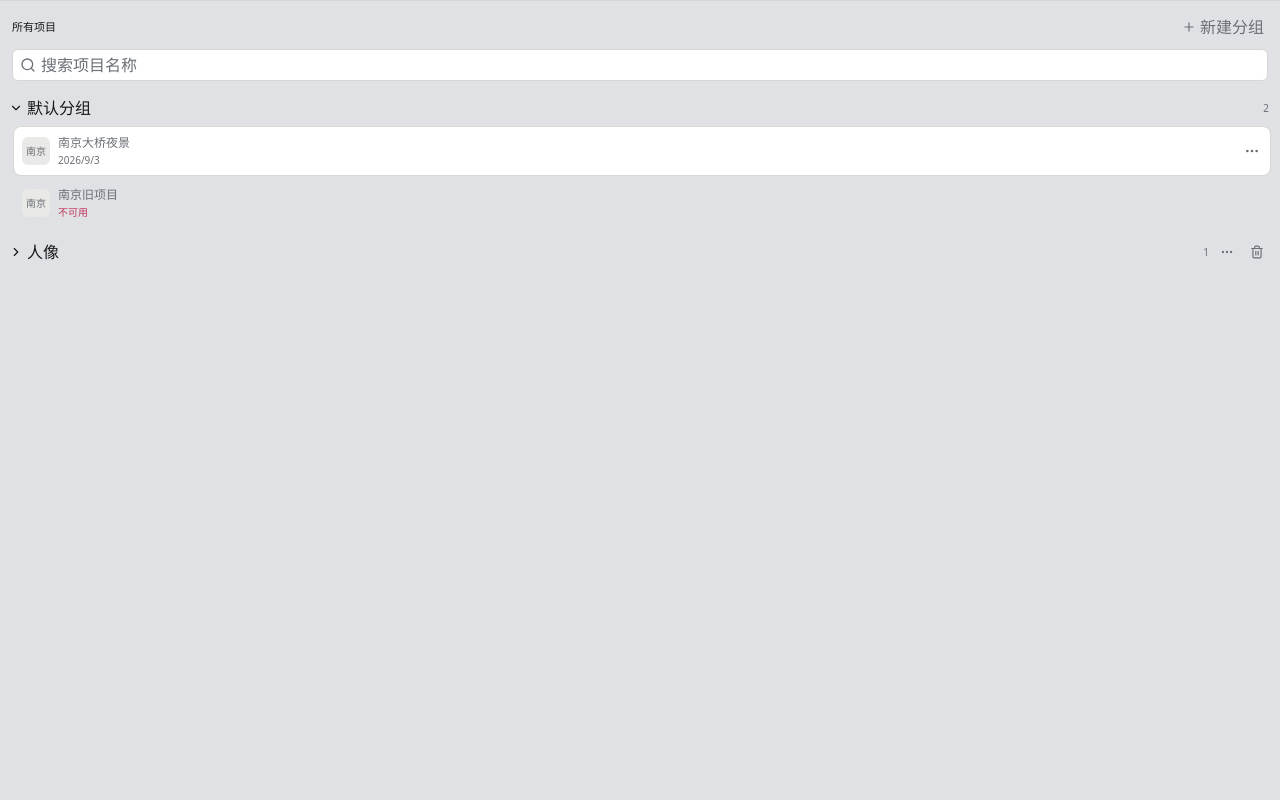
Test: grouped project sidebar › keeps a failed deletion retryable and moves members to default on confirmed save
Click the button named "删除分组 人像": click(1257, 252) [1243, 238, 1271, 266]
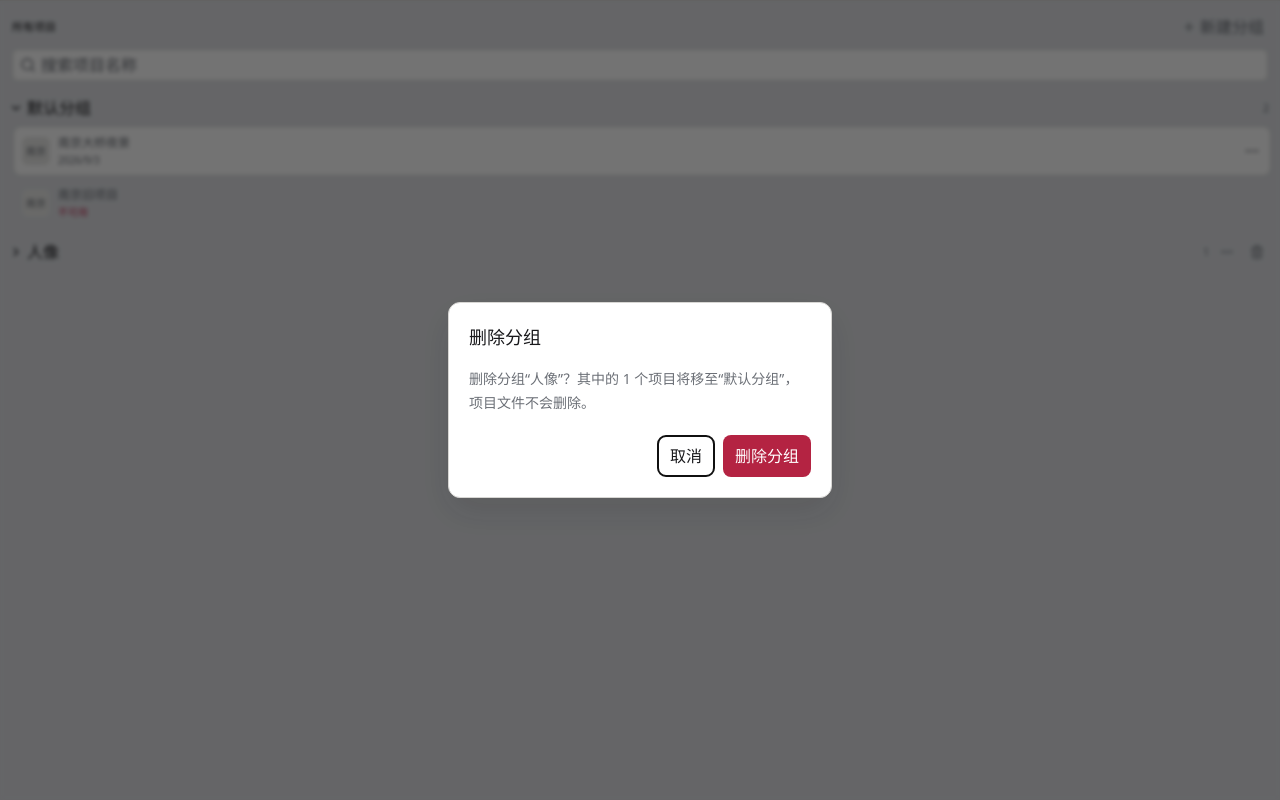
Expected: the dialog shows "1 个项目将移至“默认分组”", [469, 369, 798, 412]
Click the button "删除分组": click(767, 456) [723, 435, 811, 477]
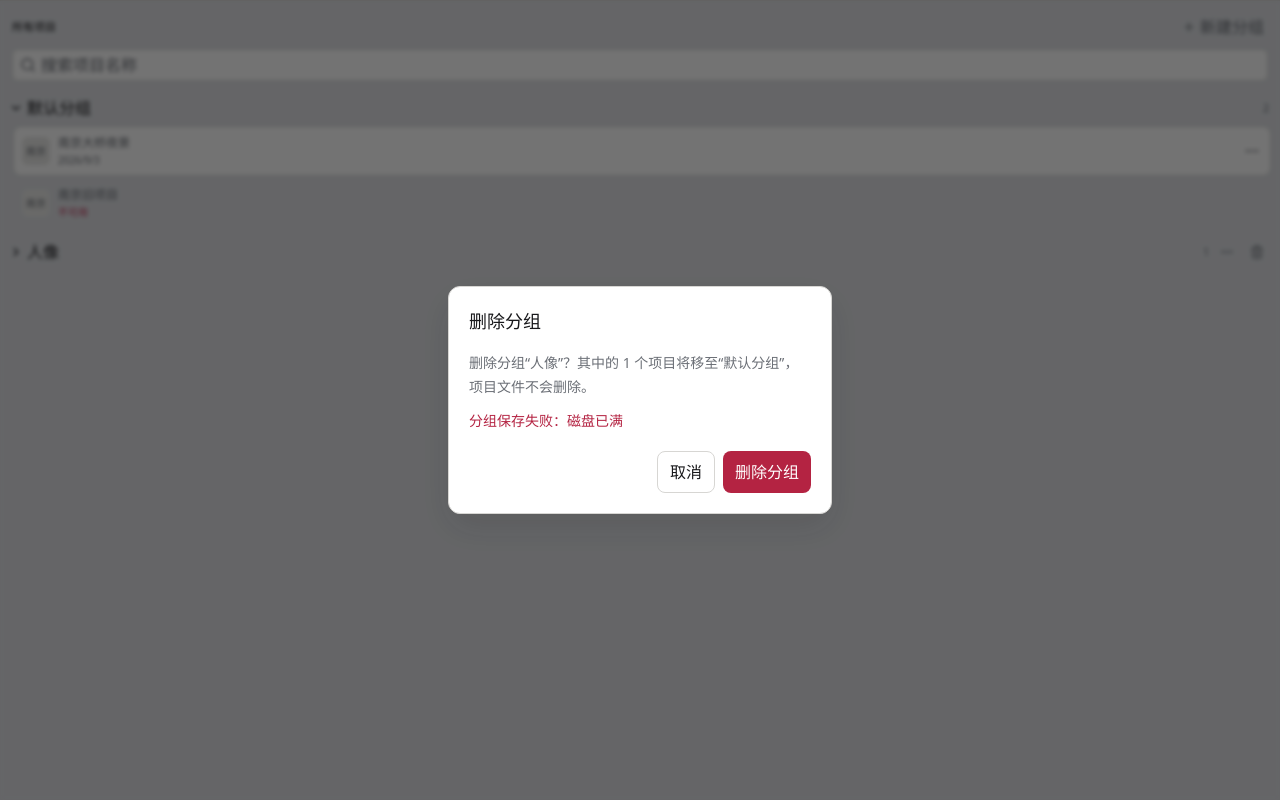
Expected: the message shows "磁盘已满", [469, 411, 623, 430]
Click the button "删除分组": click(767, 472) [723, 451, 811, 493]
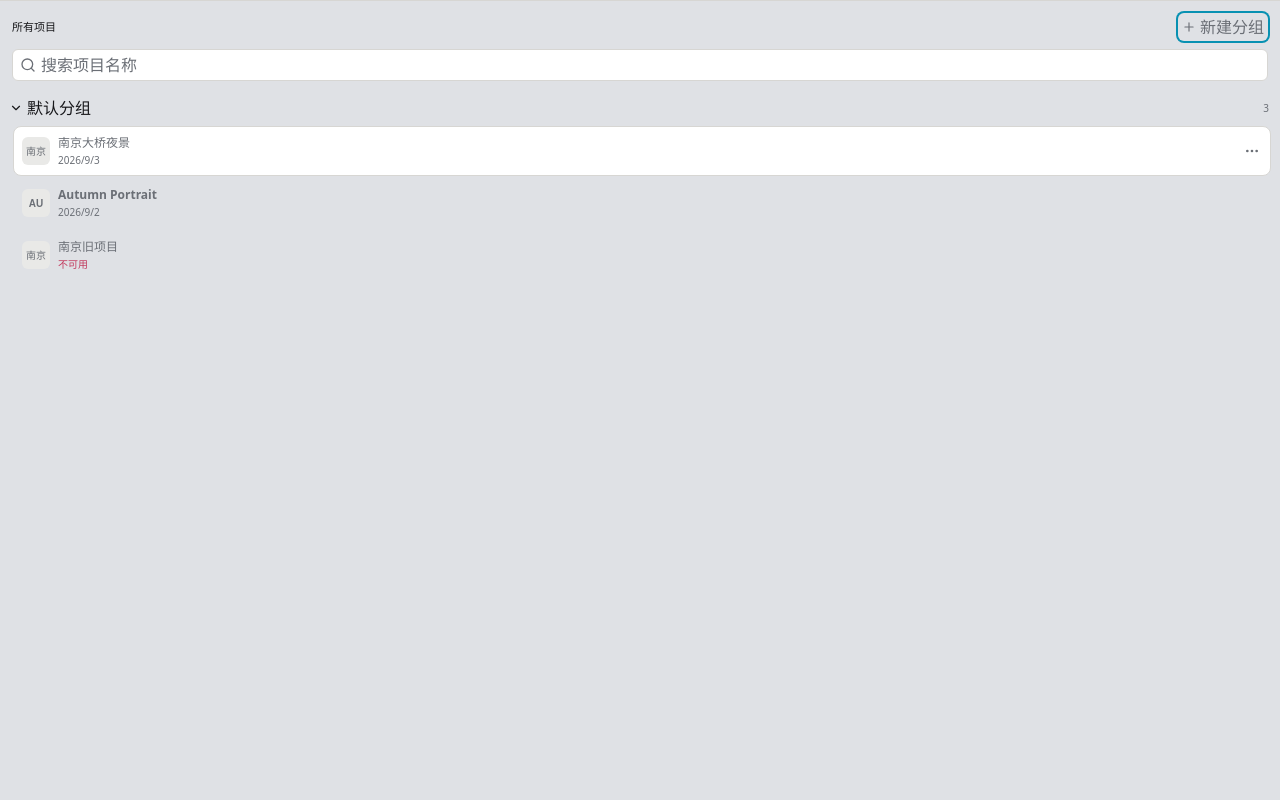
Expected: the dialog is gone
Expected: the button with aria-label "打开项目 Autumn Portrait" is shown, [14, 179, 1270, 227]
Expected: the button "人像" is gone
